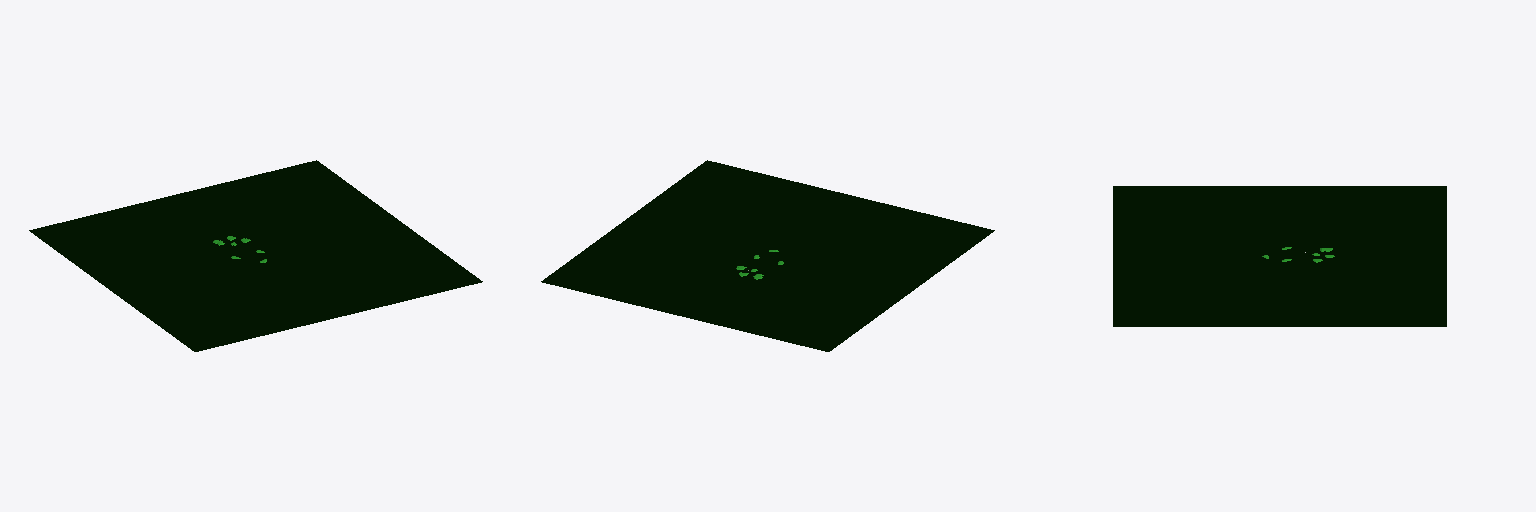
File: terrain.obj
3 views of the same model, side by side, from view 1: azimuth 30°, elevation 25°; view 2: azimuth 150°, elevation 25°; view 3: azimuth 270°, elevation 25° (orthographic).
Parts seen in each view (by area): view 1: terrain_Plane; view 2: terrain_Plane; view 3: terrain_Plane.
Part boxes in pixels (left/top/right/bottom): terrain_Plane: left=29, top=160, right=482, bottom=351; terrain_Plane: left=541, top=160, right=994, bottom=351; terrain_Plane: left=1113, top=186, right=1446, bottom=326.
Size of the model in its own units: 3000 by 8.27 by 3000.